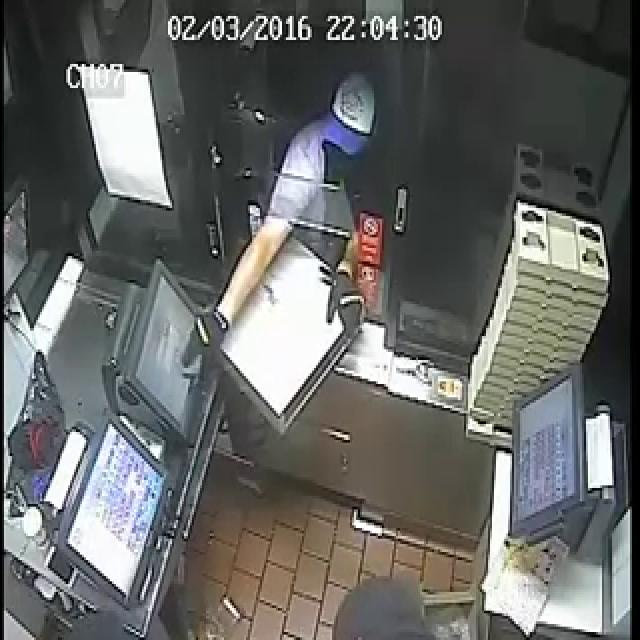burglary: (150, 31, 422, 561)
